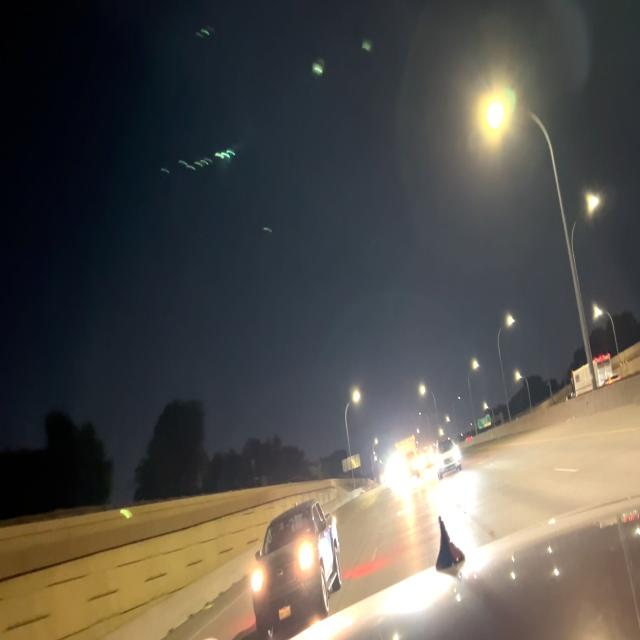back-of-sign: (341, 452, 362, 474)
